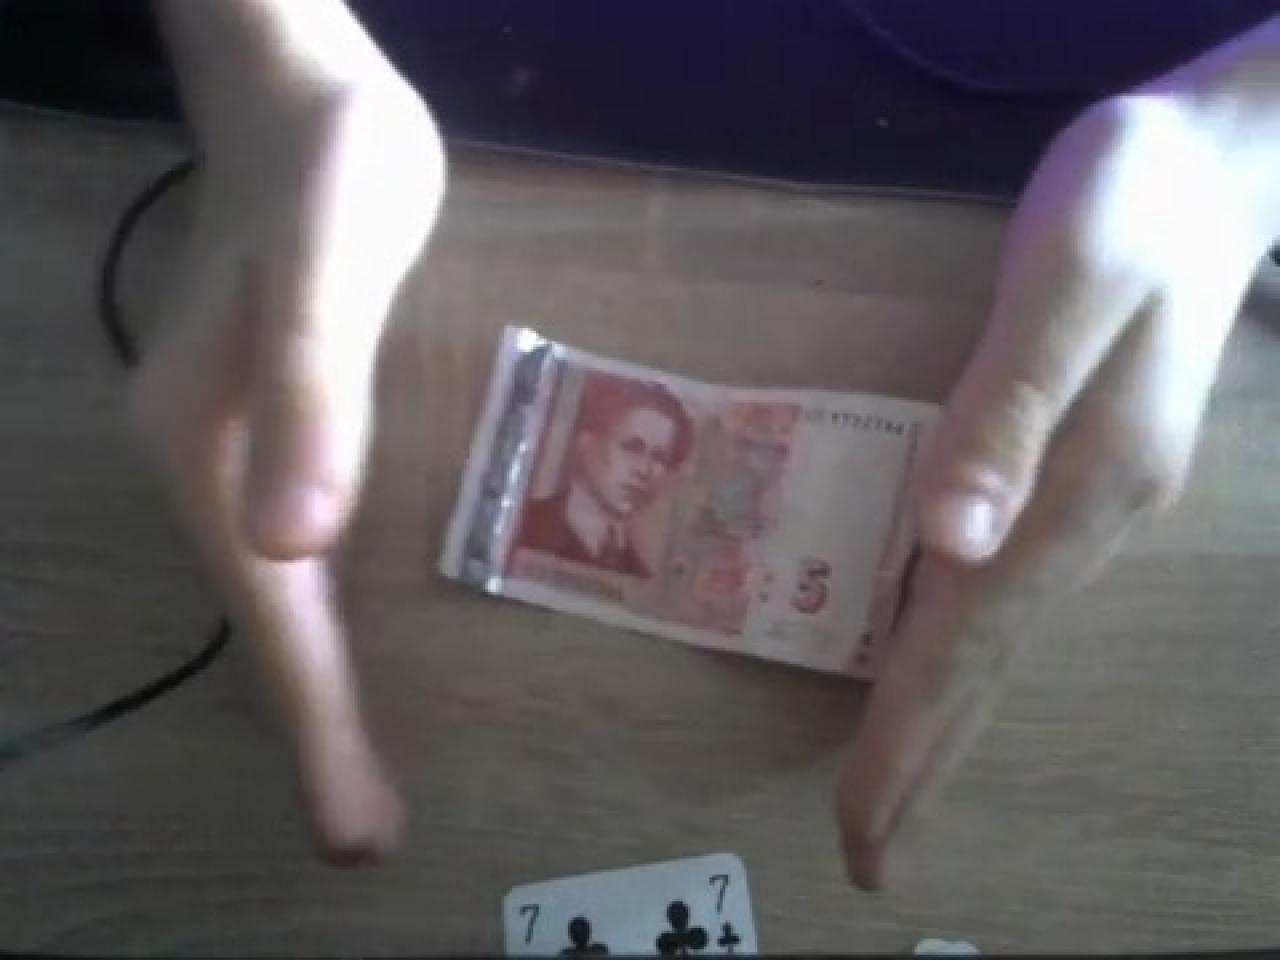5leva: (434, 326, 941, 683)
